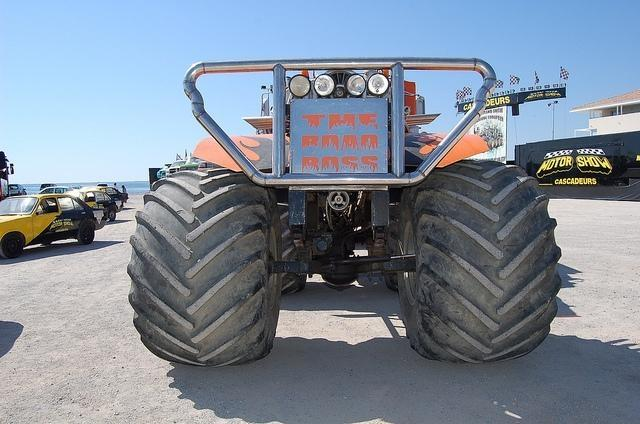car: (0, 192, 96, 256), (64, 189, 118, 221), (94, 184, 130, 210), (36, 186, 74, 194), (8, 182, 27, 196)
truck: (125, 59, 565, 368)
